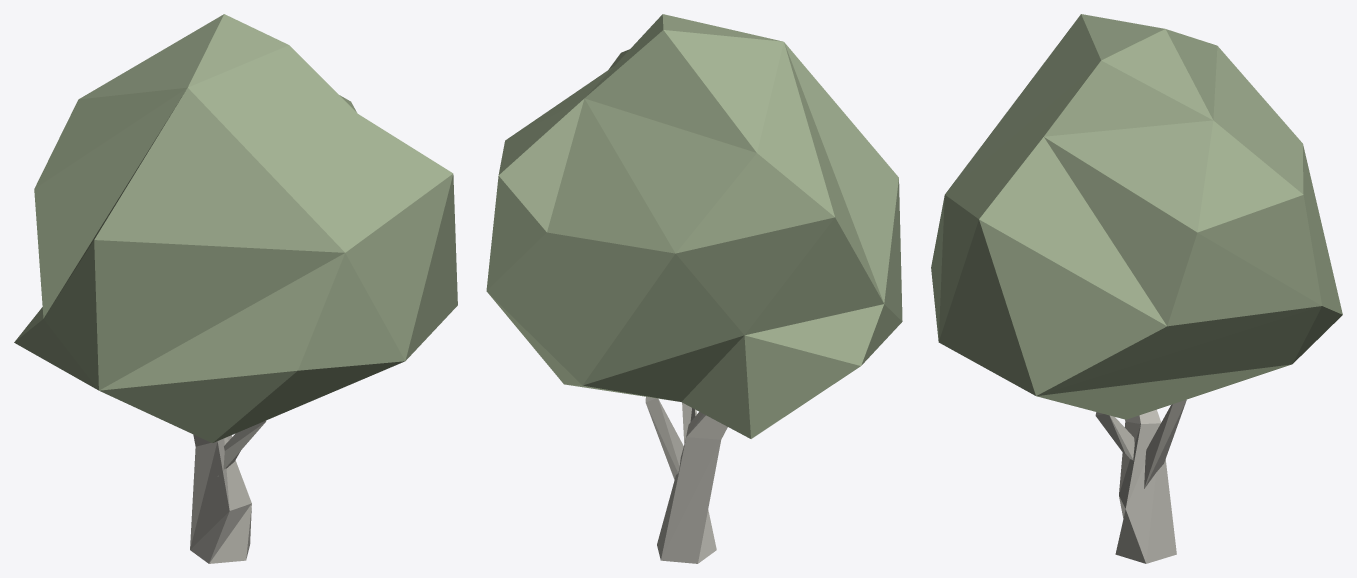
The model's file is UmbellulariaCalifornica.glb.
3 views of the same model, side by side, from view 1: azimuth 30°, elevation 25°; view 2: azimuth 150°, elevation 25°; view 3: azimuth 270°, elevation 25° (orthographic).
Parts seen in each view (by area): view 1: Crown, Trunk; view 2: Crown, Trunk; view 3: Crown, Trunk.
Part boxes in pixels (x1=…): Crown: x1=14, y1=14, x2=457, y2=442; Trunk: x1=190, y1=420, x2=266, y2=563; Crown: x1=486, y1=14, x2=902, y2=438; Trunk: x1=645, y1=397, x2=727, y2=563; Crown: x1=931, y1=14, x2=1342, y2=419; Trunk: x1=1095, y1=399, x2=1186, y2=563.
Bounding box in the file's own units: 19.99 × 27 × 19.11.
